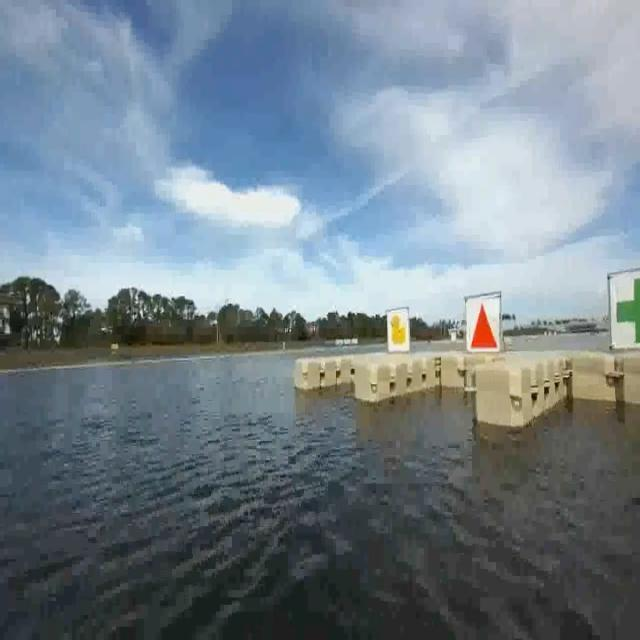blue-cross: (606, 270, 640, 350)
red-dot: (464, 298, 504, 354)
yellow-duck: (387, 307, 411, 348)
